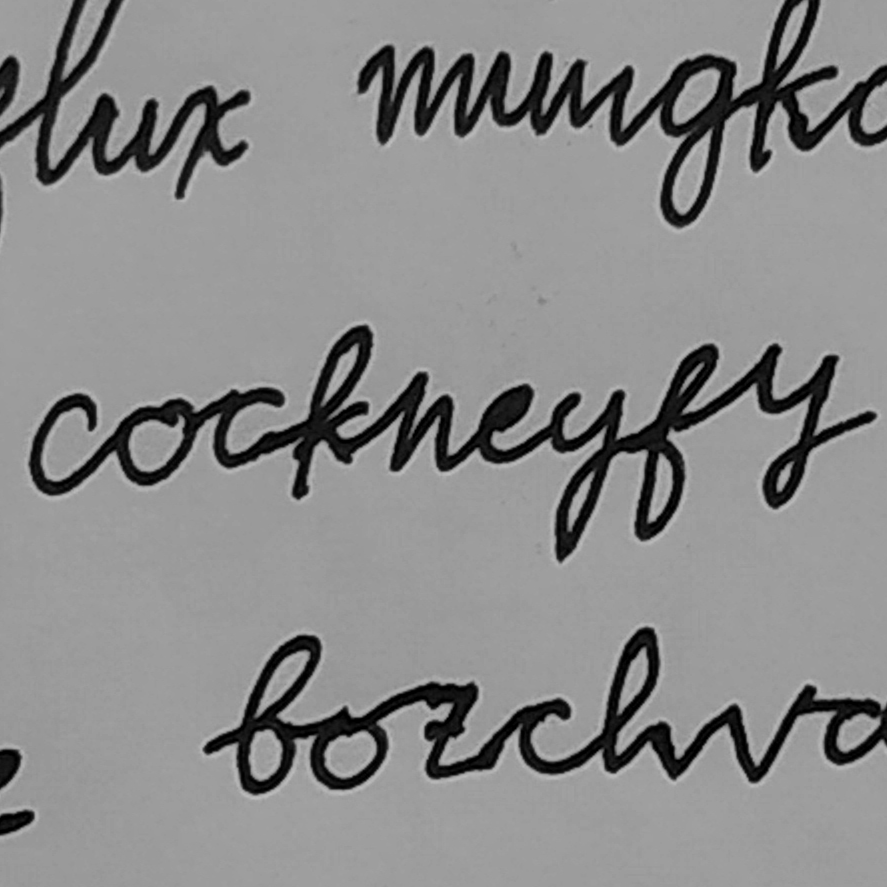c: (27, 388, 103, 499), (205, 382, 290, 472)
e: (468, 379, 541, 468)
f: (632, 339, 723, 543)
k: (289, 318, 379, 503)
n: (383, 366, 463, 477)
o: (110, 392, 201, 491)
y: (744, 337, 843, 516), (545, 385, 631, 564)
